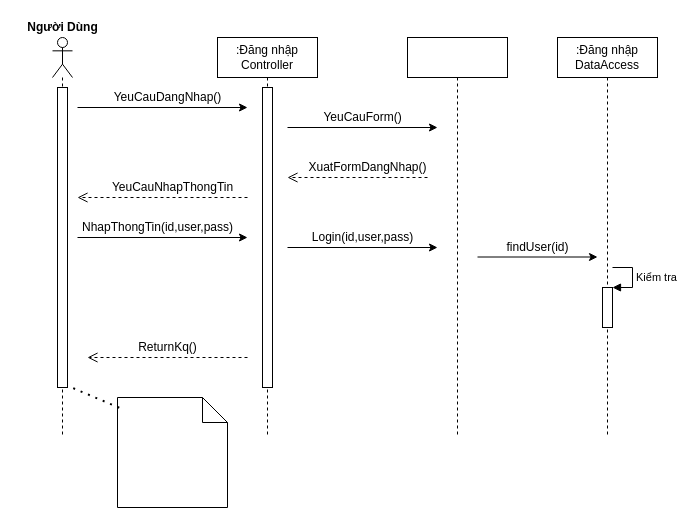
Some shapes in this 694 by 525 pixel diagram are drawn without their labels. The box of each missing label's shape, as (x1, y1, x2, y2) in pixels:
:Đăng nhập BusinesssLogic: (406, 36, 508, 438)
Extend with U1,U2,U3,U4,U5, U6,U7,U8,U9,U10, U11,U12,U13,U14: (116, 396, 228, 508)
